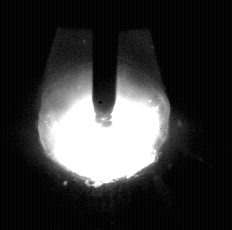arame: (92, 0, 117, 126)
poca: (37, 0, 169, 230)
